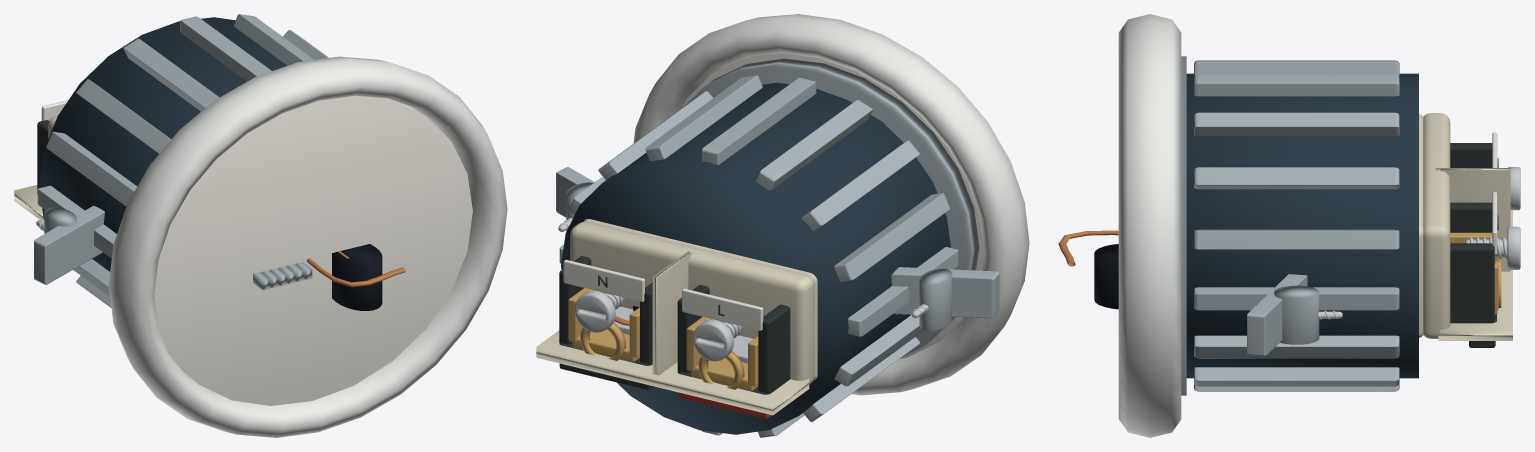
Rendered from led_downlight.glb.
3 views of the same model, side by side, from view 1: azimuth 30°, elevation 25°; view 2: azimuth 150°, elevation 25°; view 3: azimuth 270°, elevation 25° (orthographic). The views are drawn at different scales.
Parts seen in each view (by area): view 1: part:cover, part:body, part:body · Original 2a8198d3, part:mounting · Original 2a8198d3, part:electronics · Original 3ff2d46d, part:electronics · Original 2a8198d3, part:terminals · Original 5a609f27, part:electronics · Original db0da9ae, detail:terminal-clamp:L · Detail moulded engineering polymer; view 2: part:body, part:body · Original 2a8198d3, part:cover, part:terminals · Original 5a609f27, part:mounting · Original 2a8198d3, detail:terminal-clamp:L · Detail moulded engineering polymer, detail:terminal-clamp:N · Detail moulded engineering polymer, detail:terminal-clamp:L · Detail machined brass, detail:terminal-clamp:N · Detail machined brass, Moulded terminal legend pad, Moulded terminal legend pad.001, detail:terminal-clamp:L · Detail zinc plated fixing (+2 smaller); view 3: part:body, part:body · Original 2a8198d3, part:cover, part:terminals · Original 5a609f27, detail:terminal-clamp:N · Detail moulded engineering polymer, part:mounting · Original 2a8198d3, part:electronics · Original 3ff2d46d, detail:terminal-clamp:L · Detail moulded engineering polymer, detail:terminal-clamp:N · Detail zinc plated fixing, detail:terminal-clamp:N · Detail machined brass, part:electronics · Original db0da9ae, detail:terminal-clamp:L · Detail zinc plated fixing.
Boxes of the visible parts, left/top/right/bottom form: part:cover: left=108, top=56, right=507, bottom=437; part:body: left=39, top=17, right=287, bottom=271; part:body · Original 2a8198d3: left=37, top=14, right=328, bottom=307; part:mounting · Original 2a8198d3: left=34, top=205, right=104, bottom=284; part:electronics · Original 3ff2d46d: left=332, top=244, right=382, bottom=310; part:electronics · Original 2a8198d3: left=253, top=262, right=312, bottom=289; part:terminals · Original 5a609f27: left=14, top=115, right=57, bottom=220; part:electronics · Original db0da9ae: left=306, top=251, right=405, bottom=287; detail:terminal-clamp:L · Detail moulded engineering polymer: left=37, top=120, right=49, bottom=193; part:body: left=561, top=82, right=950, bottom=434; part:body · Original 2a8198d3: left=559, top=58, right=979, bottom=437; part:cover: left=633, top=14, right=1029, bottom=395; part:terminals · Original 5a609f27: left=536, top=219, right=817, bottom=415; part:mounting · Original 2a8198d3: left=556, top=167, right=999, bottom=330; detail:terminal-clamp:L · Detail moulded engineering polymer: left=677, top=285, right=790, bottom=394; detail:terminal-clamp:N · Detail moulded engineering polymer: left=559, top=256, right=653, bottom=389; detail:terminal-clamp:L · Detail machined brass: left=686, top=317, right=758, bottom=390; detail:terminal-clamp:N · Detail machined brass: left=568, top=288, right=639, bottom=362; Moulded terminal legend pad: left=682, top=288, right=763, bottom=330; Moulded terminal legend pad.001: left=563, top=259, right=644, bottom=301; detail:terminal-clamp:L · Detail zinc plated fixing: left=693, top=319, right=753, bottom=363; part:body: left=1186, top=73, right=1418, bottom=378; part:body · Original 2a8198d3: left=1181, top=56, right=1399, bottom=395; part:cover: left=1118, top=14, right=1181, bottom=437; part:terminals · Original 5a609f27: left=1419, top=113, right=1512, bottom=340; detail:terminal-clamp:N · Detail moulded engineering polymer: left=1450, top=202, right=1496, bottom=347; part:mounting · Original 2a8198d3: left=1247, top=274, right=1319, bottom=356; part:electronics · Original 3ff2d46d: left=1094, top=244, right=1118, bottom=309; detail:terminal-clamp:L · Detail moulded engineering polymer: left=1450, top=143, right=1492, bottom=167; detail:terminal-clamp:N · Detail zinc plated fixing: left=1465, top=226, right=1520, bottom=269; detail:terminal-clamp:N · Detail machined brass: left=1450, top=232, right=1501, bottom=314; part:electronics · Original db0da9ae: left=1058, top=230, right=1118, bottom=266; detail:terminal-clamp:L · Detail zinc plated fixing: left=1508, top=167, right=1520, bottom=210.
Bounding box in the file's own units: 0.6297 × 0.4993 × 0.5557.
